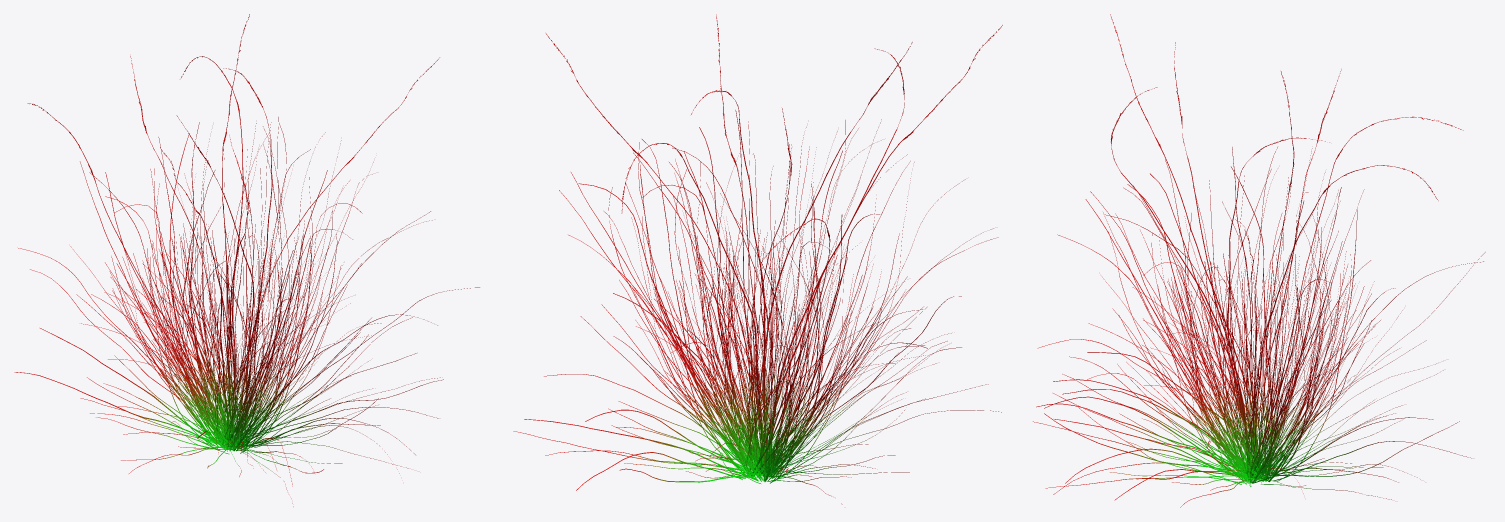
File: Xeric Grass_LOD0_Var6_xjfgdhaqx.fbx
The picture shows the model from 3 angles, left to right: view 1: azimuth 30°, elevation 25°; view 2: azimuth 150°, elevation 25°; view 3: azimuth 270°, elevation 25°; orthographic projection. The views are drawn at different scales.
Visible parts, largest first — view 1: _35ih_Var6_LOD0; view 2: _35ih_Var6_LOD0; view 3: _35ih_Var6_LOD0.
Boxes of the visible parts, left/top/right/bottom form: _35ih_Var6_LOD0: left=14, top=14, right=479, bottom=506; _35ih_Var6_LOD0: left=513, top=14, right=1002, bottom=504; _35ih_Var6_LOD0: left=1033, top=14, right=1485, bottom=507.
Bounding box in the file's own units: 352 × 357 × 351.
